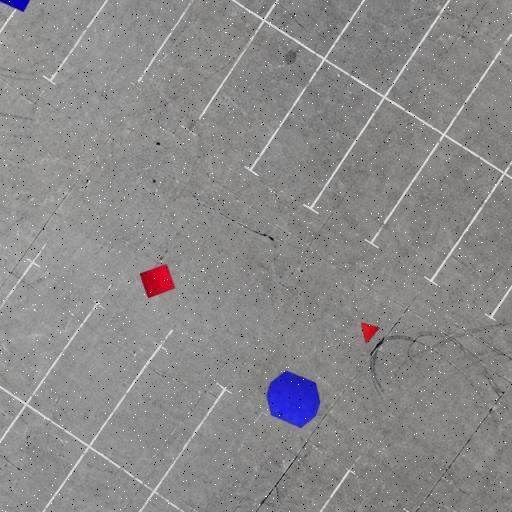RED_SQUARE: (138, 264, 176, 298)
